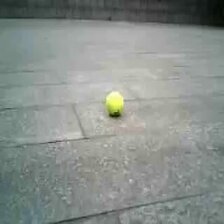tennis: (105, 93, 123, 116)
